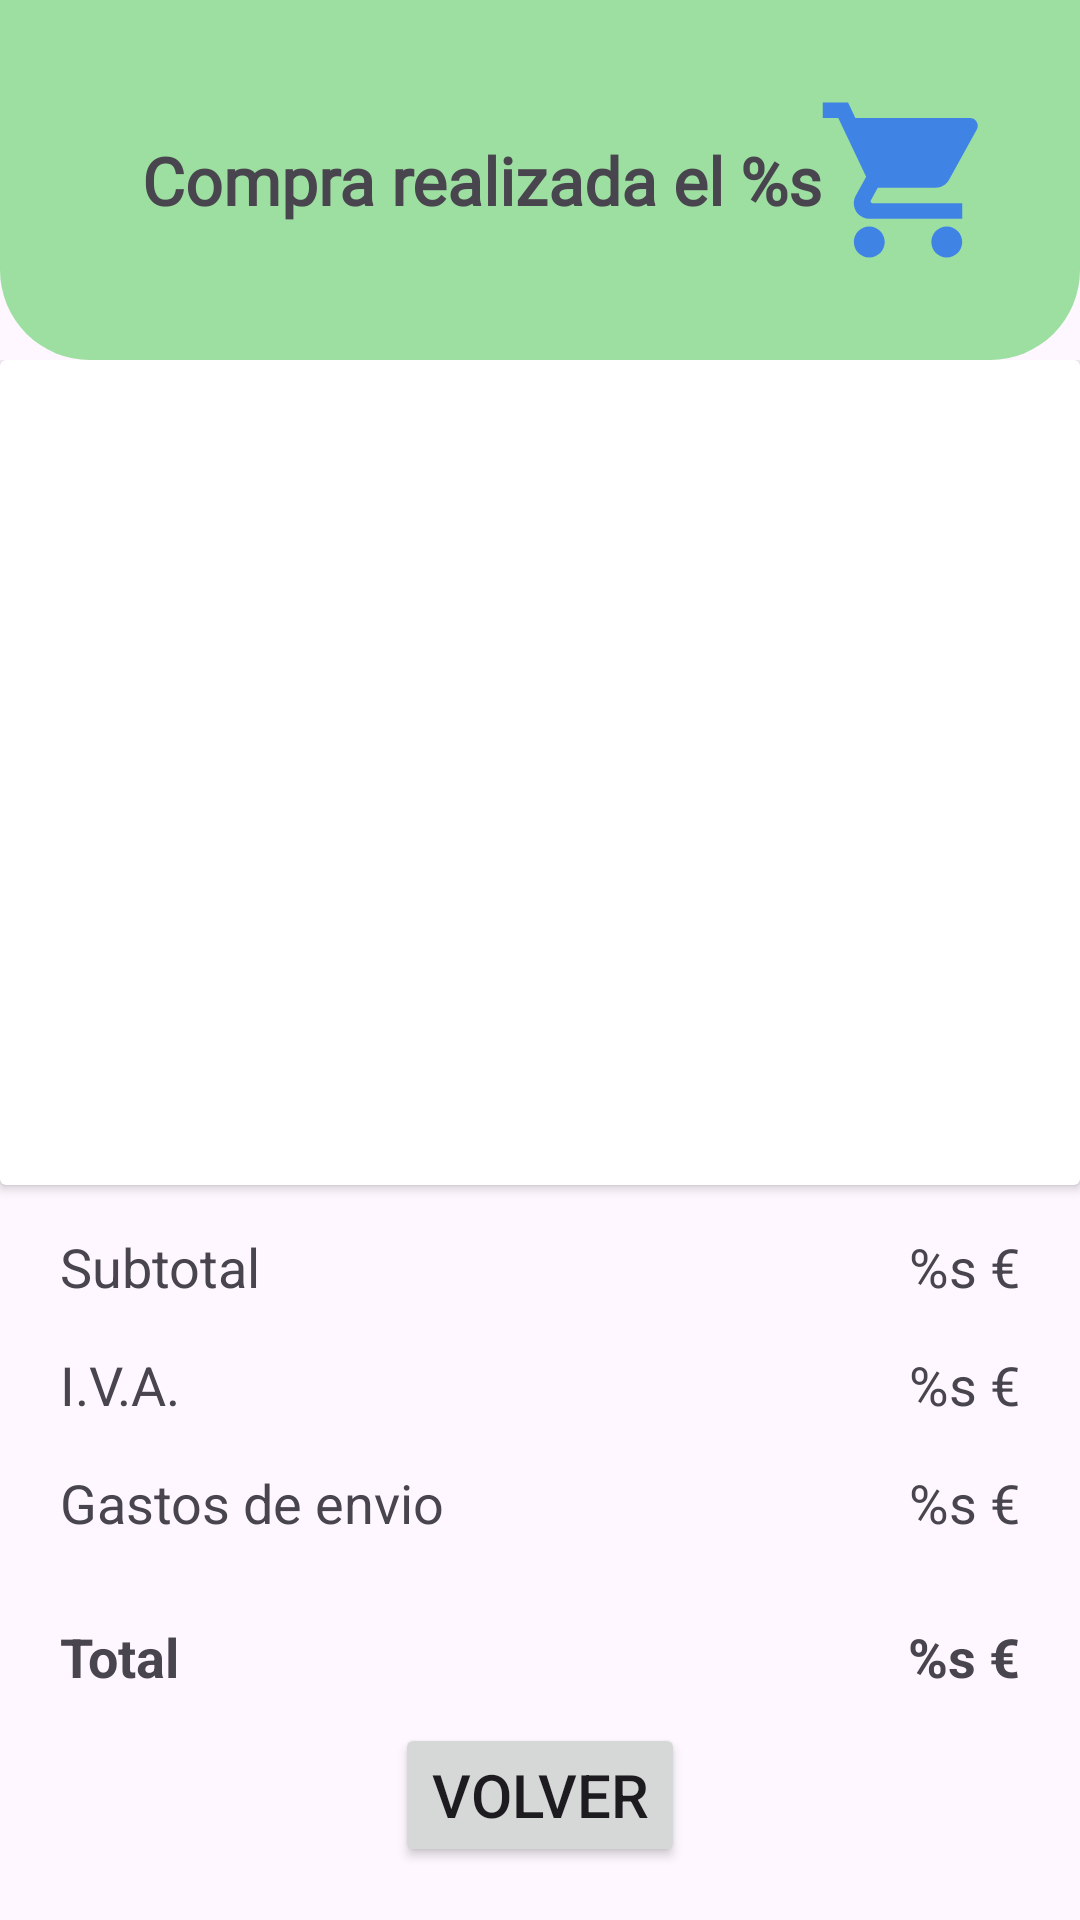

Icons on this 1080x1920 Android screen, each with its box as bbox=[x1, y1, x2, y2]:
shopping cart: bbox=[823, 102, 978, 258]
